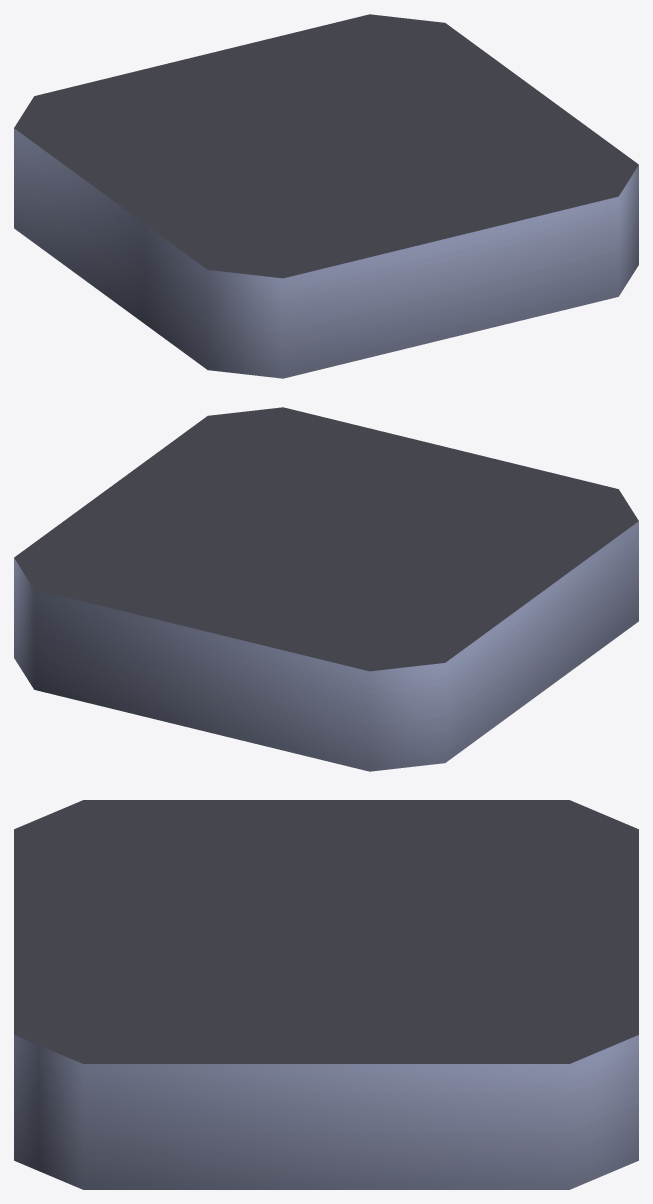
The model's file is kenney-car-debris-plate-small-a.glb.
3 renders of one model, top to bottom at view 1: azimuth 30°, elevation 25°; view 2: azimuth 150°, elevation 25°; view 3: azimuth 270°, elevation 25°, orthographic. The views are drawn at different scales.
Parts seen in each view (by area): view 1: debris-plate-small-a; view 2: debris-plate-small-a; view 3: debris-plate-small-a.
Boxes of the visible parts, x1,y1,x2,y2 form: debris-plate-small-a: (14, 14, 638, 378); debris-plate-small-a: (14, 407, 638, 771); debris-plate-small-a: (14, 800, 638, 1189).
Bounding box in the file's own units: 0.45 × 0.1 × 0.45.
1 material, 1 textured.
